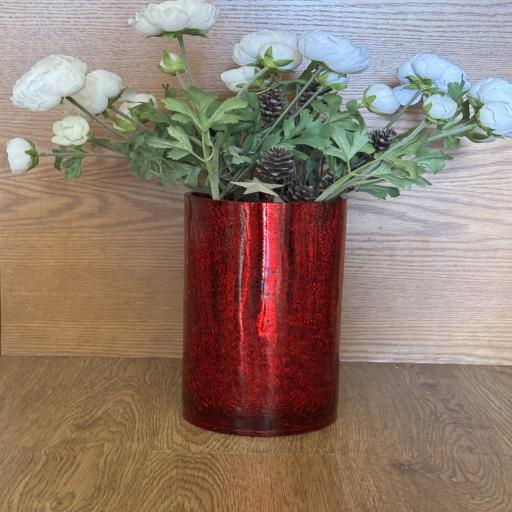Plant Pot: (175, 168, 345, 437)
